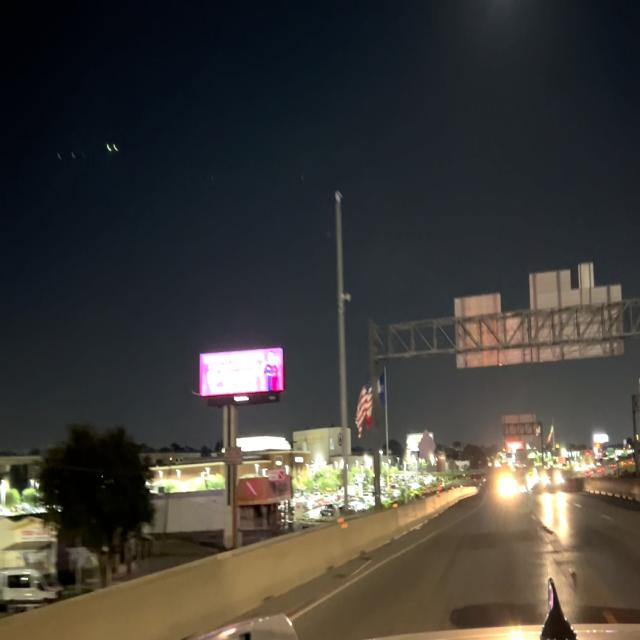back-of-sign: (450, 259, 626, 372), (499, 408, 540, 447), (418, 428, 436, 466)
